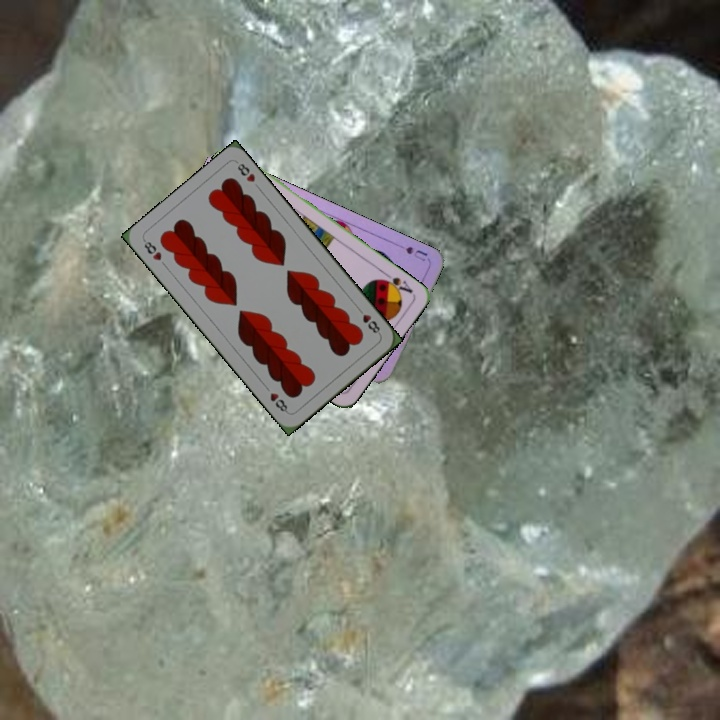H8: (353, 303, 383, 338), (139, 236, 164, 263)
SA: (377, 268, 415, 297)
SU: (402, 242, 430, 264)
